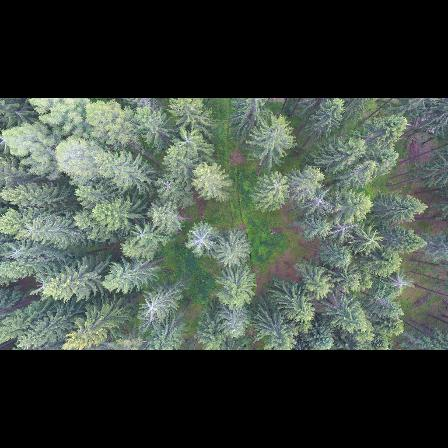Sick: (136, 296, 168, 329), (184, 226, 217, 256), (328, 217, 360, 245), (384, 270, 416, 296), (303, 190, 335, 214)
